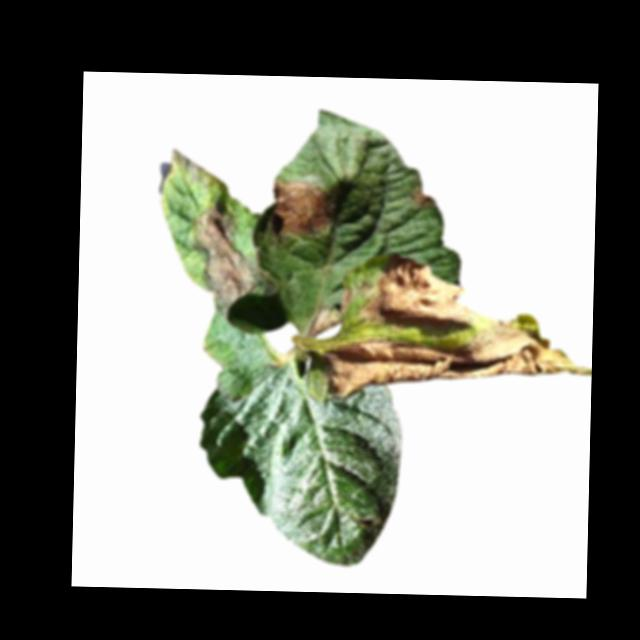Late_blight: (322, 313, 592, 403), (356, 259, 475, 332), (188, 204, 260, 313), (272, 174, 334, 238), (171, 147, 220, 188), (408, 185, 439, 210), (340, 284, 353, 312)
healthy: (196, 381, 403, 568)
